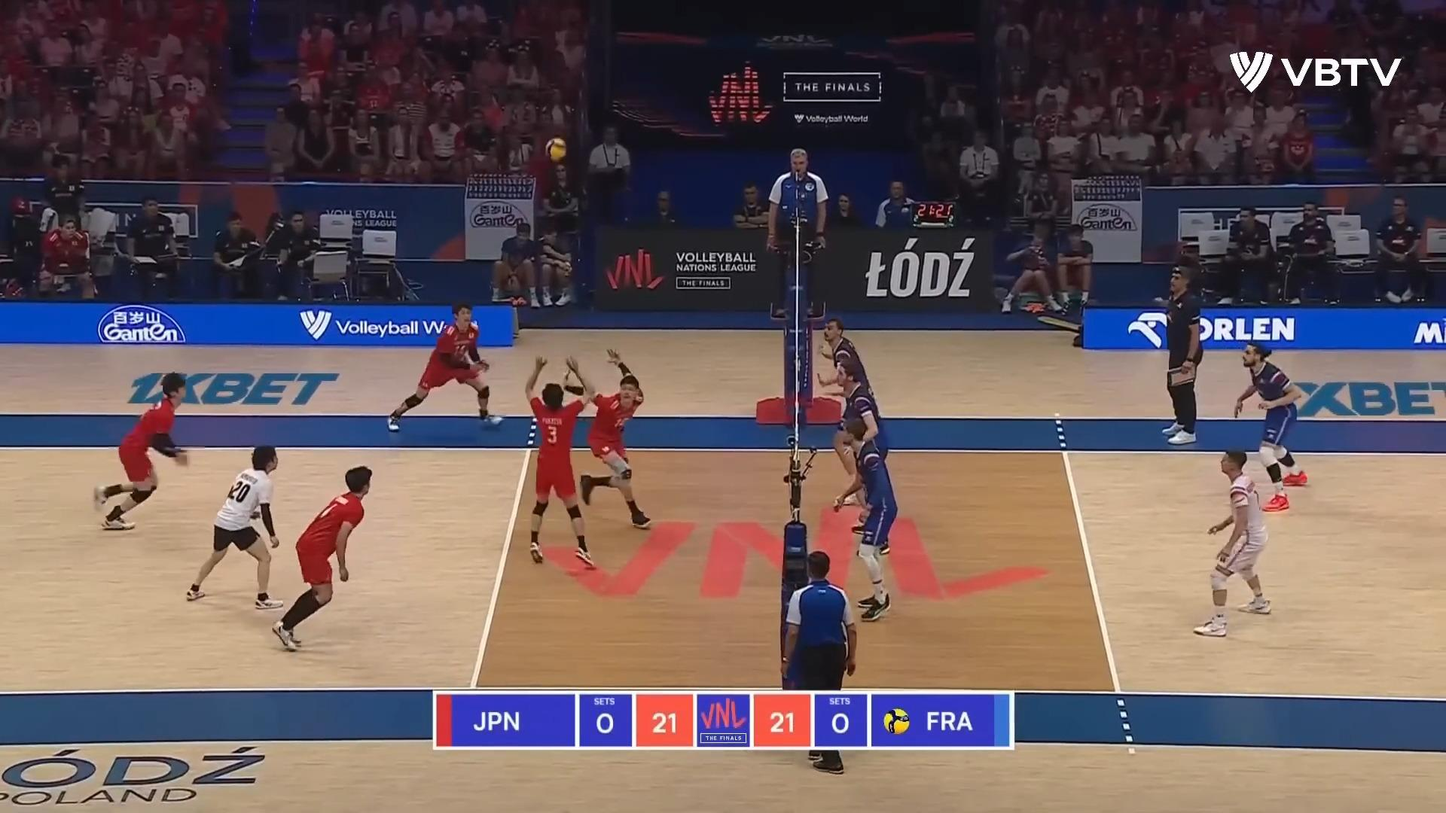ball: (546, 139, 567, 160)
